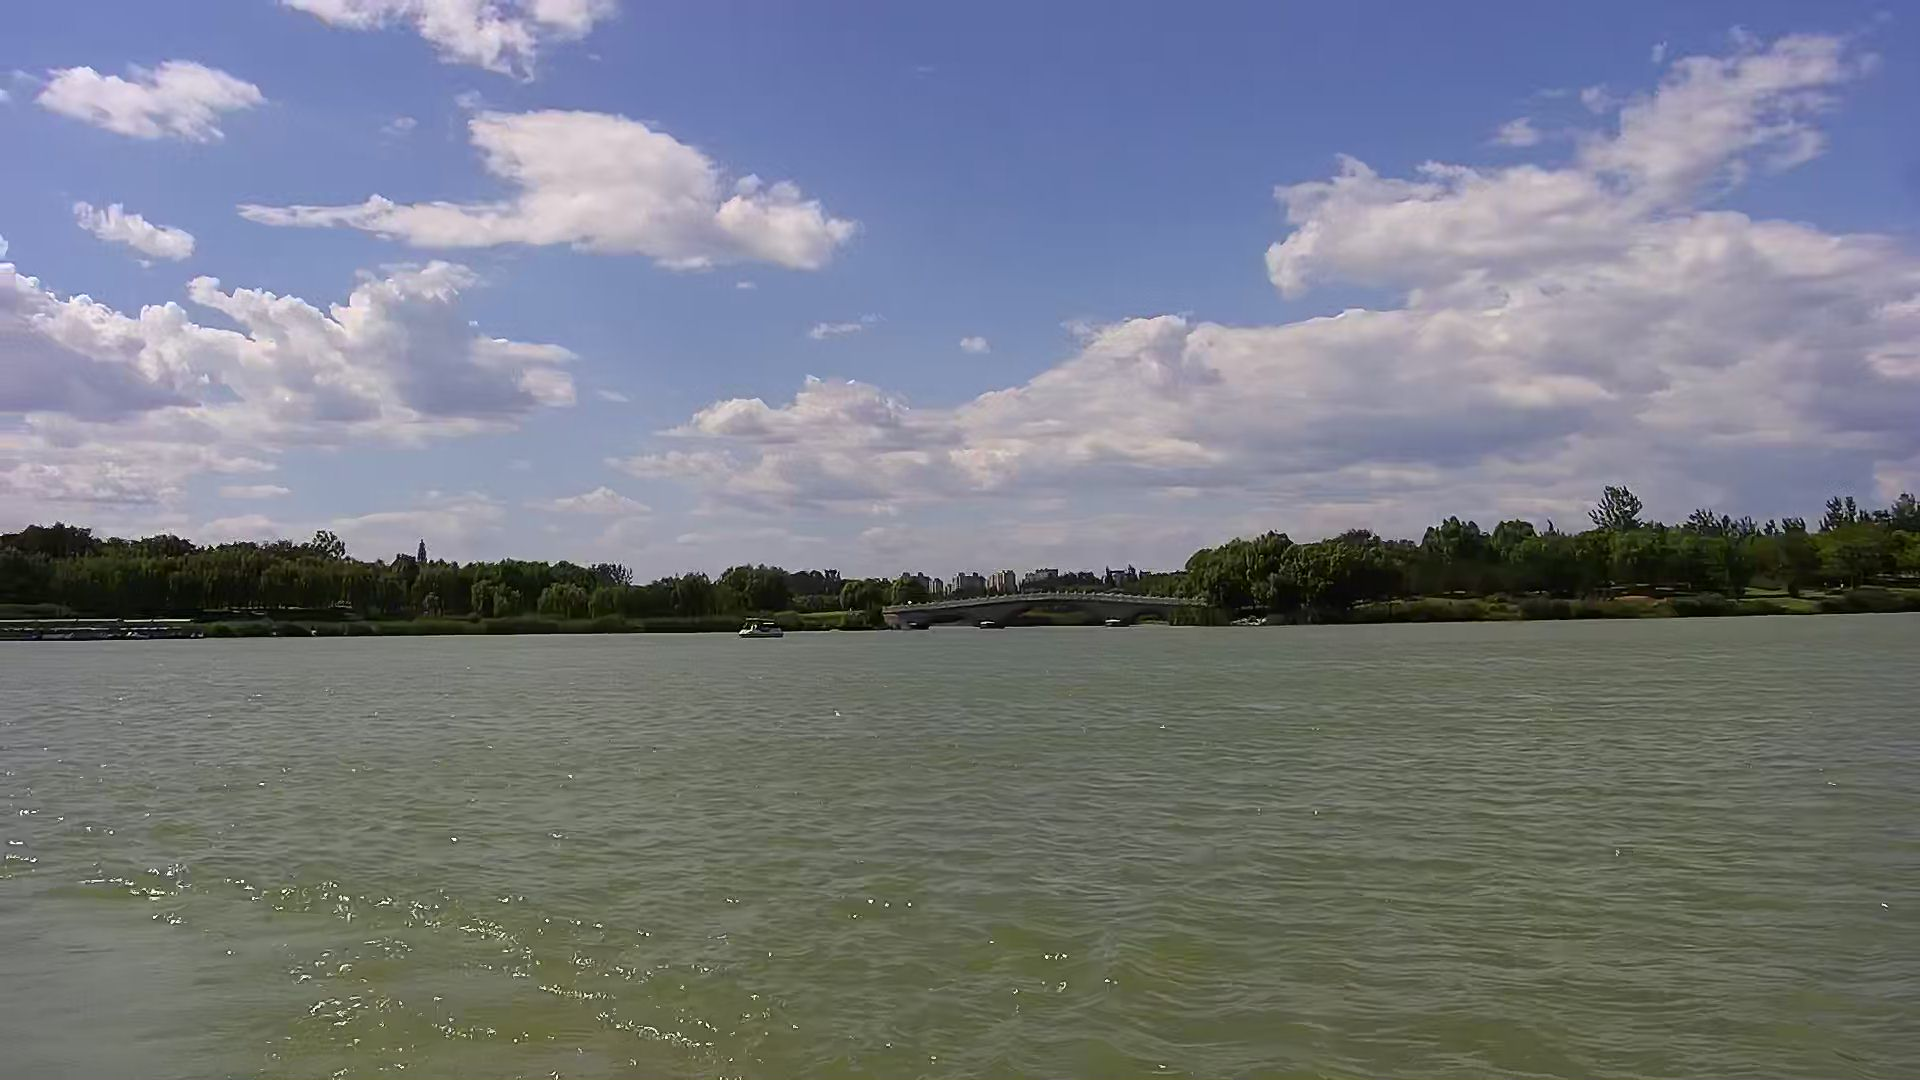boat: (737, 611, 789, 646)
bridge: (895, 589, 1174, 626)
harbor: (1, 613, 199, 640)
